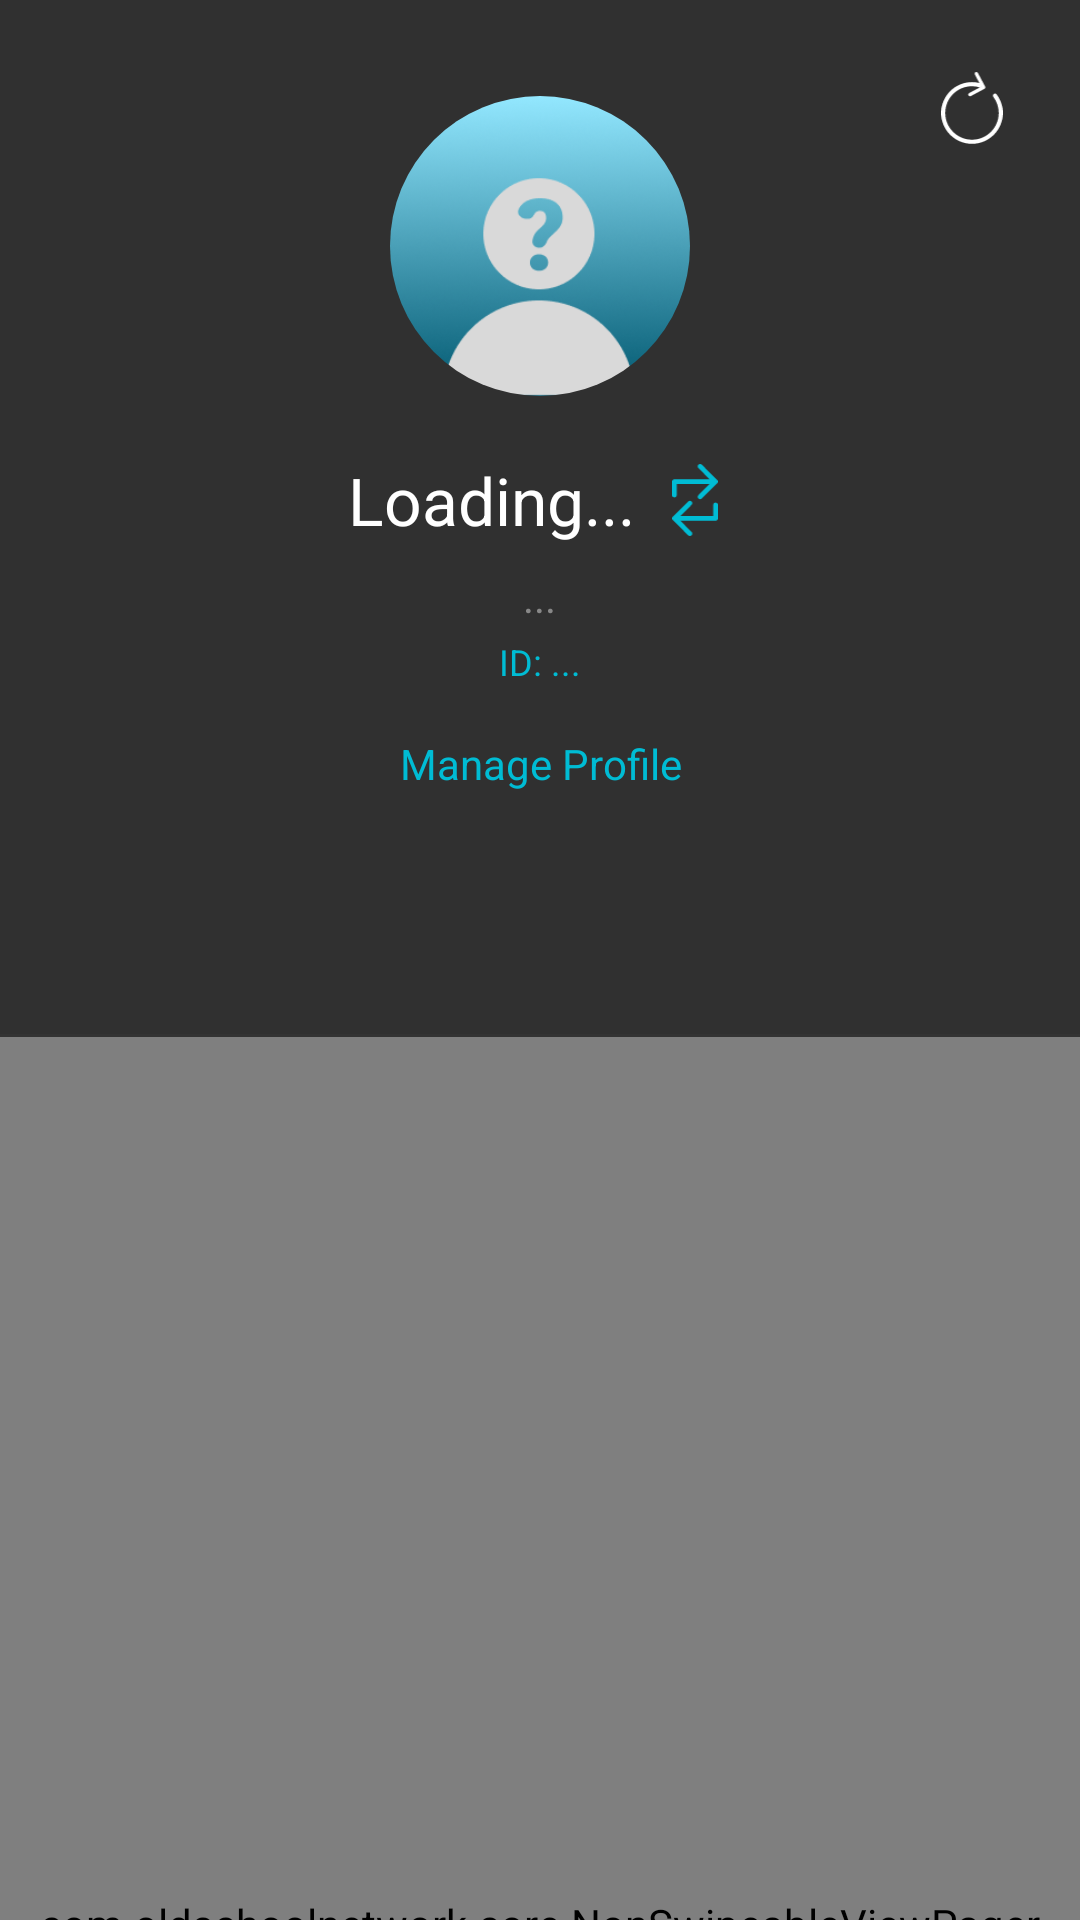

Icon bounding boxes for this 1080x1920 phone screenshot, format (x1, y1, x2, y2):
change: (672, 464, 718, 536)
refresh: (941, 72, 1003, 144)
